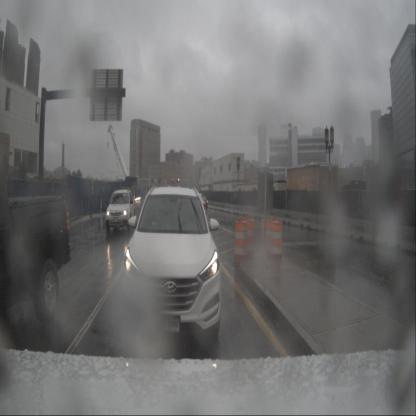movable_object-barrier: (373, 221, 415, 254), (341, 217, 376, 244), (316, 214, 343, 236), (296, 211, 318, 231), (278, 209, 298, 226), (262, 208, 280, 222), (241, 204, 253, 218), (232, 204, 242, 215), (225, 203, 233, 214), (219, 203, 226, 212), (213, 202, 220, 210), (210, 200, 215, 210), (206, 201, 211, 209)
movable_object-trafficcone: (234, 217, 247, 263), (270, 216, 282, 262), (245, 216, 255, 260), (261, 216, 271, 260)
vehicle-car: (124, 186, 220, 336), (104, 188, 135, 234)
vehicle-truck: (0, 173, 72, 340)
